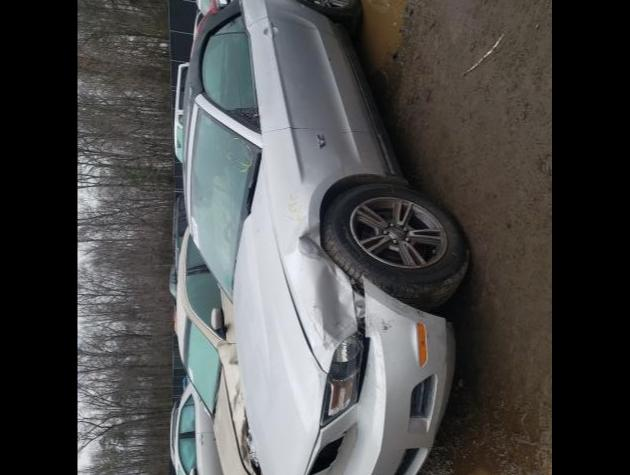Broken part: (280, 254, 328, 374), (348, 276, 372, 402)
Dent: (312, 258, 360, 404), (284, 216, 332, 264), (366, 294, 400, 336), (446, 318, 456, 338), (286, 0, 306, 8)
Missing part: (308, 430, 346, 475), (224, 106, 262, 130)
Paint chip: (380, 318, 394, 332), (414, 310, 424, 316), (328, 56, 332, 60)
